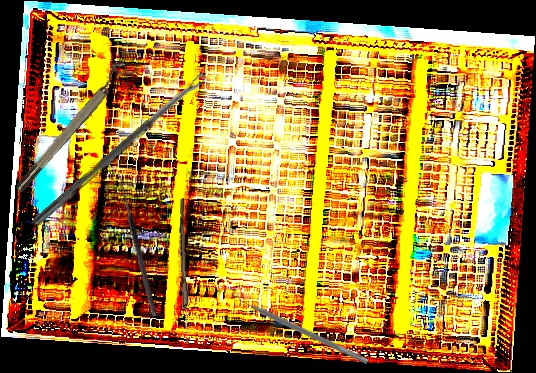Fixation Ring: (7, 57, 135, 196)
Hook Surgical: (109, 172, 158, 319)
Spatula Surgical: (232, 290, 372, 365)
Surgical Spoon: (29, 72, 209, 230), (176, 198, 192, 345)
